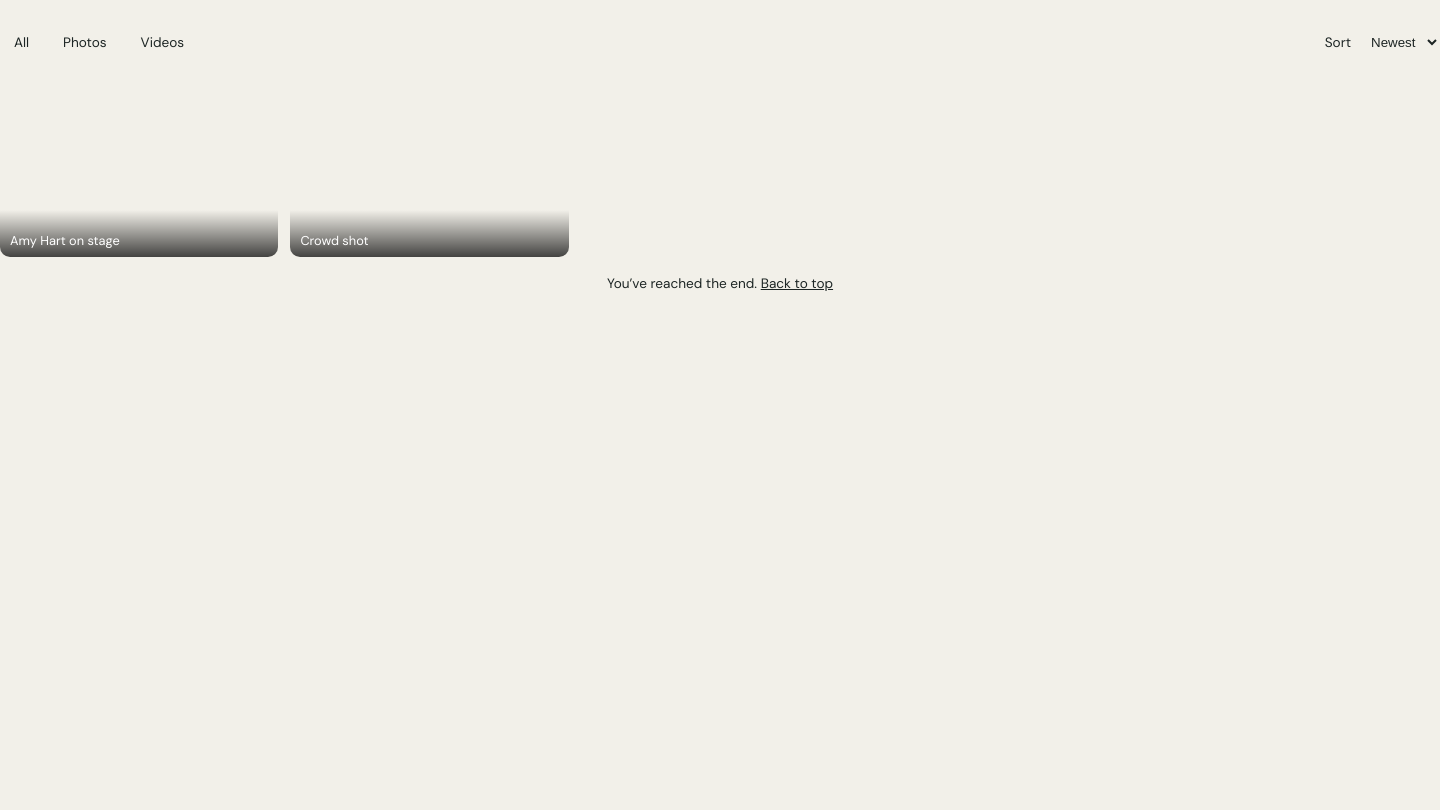
Scenario: Lightbox (via MediaGallery) › opens on tile click, navigates with keyboard and buttons, closes on Escape
Click the button with aria-label "Amy on stage photo": point(139, 164) [0,71,278,257]
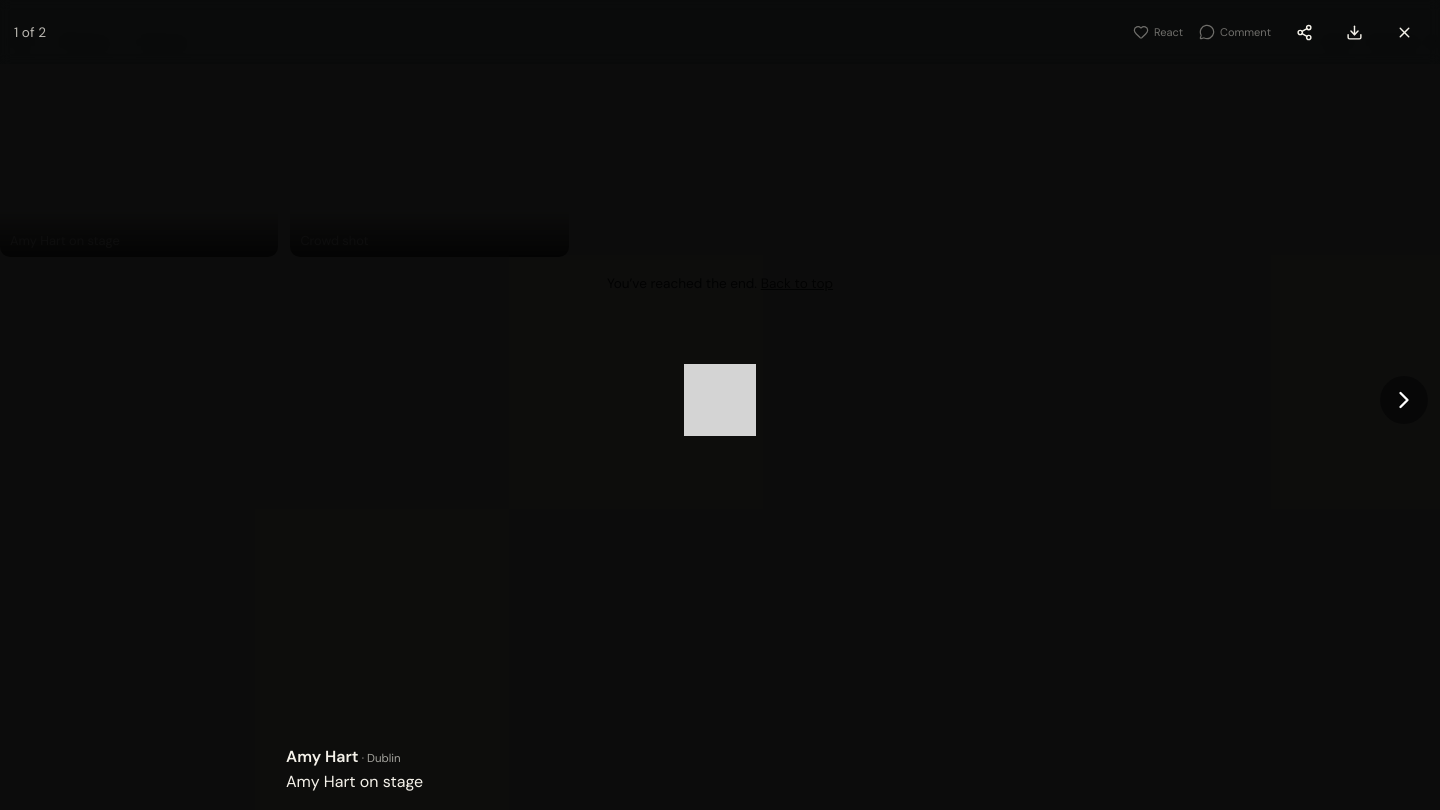
Now the dialog named "Amy on stage photo" is shown
Now the text "Amy Hart on stage" is shown, box [286,771,423,792]
Now the text "Amy Hart" is shown, box [286,746,359,767]
Click the button named "Next media": point(1404, 400) [1380,376,1428,424]
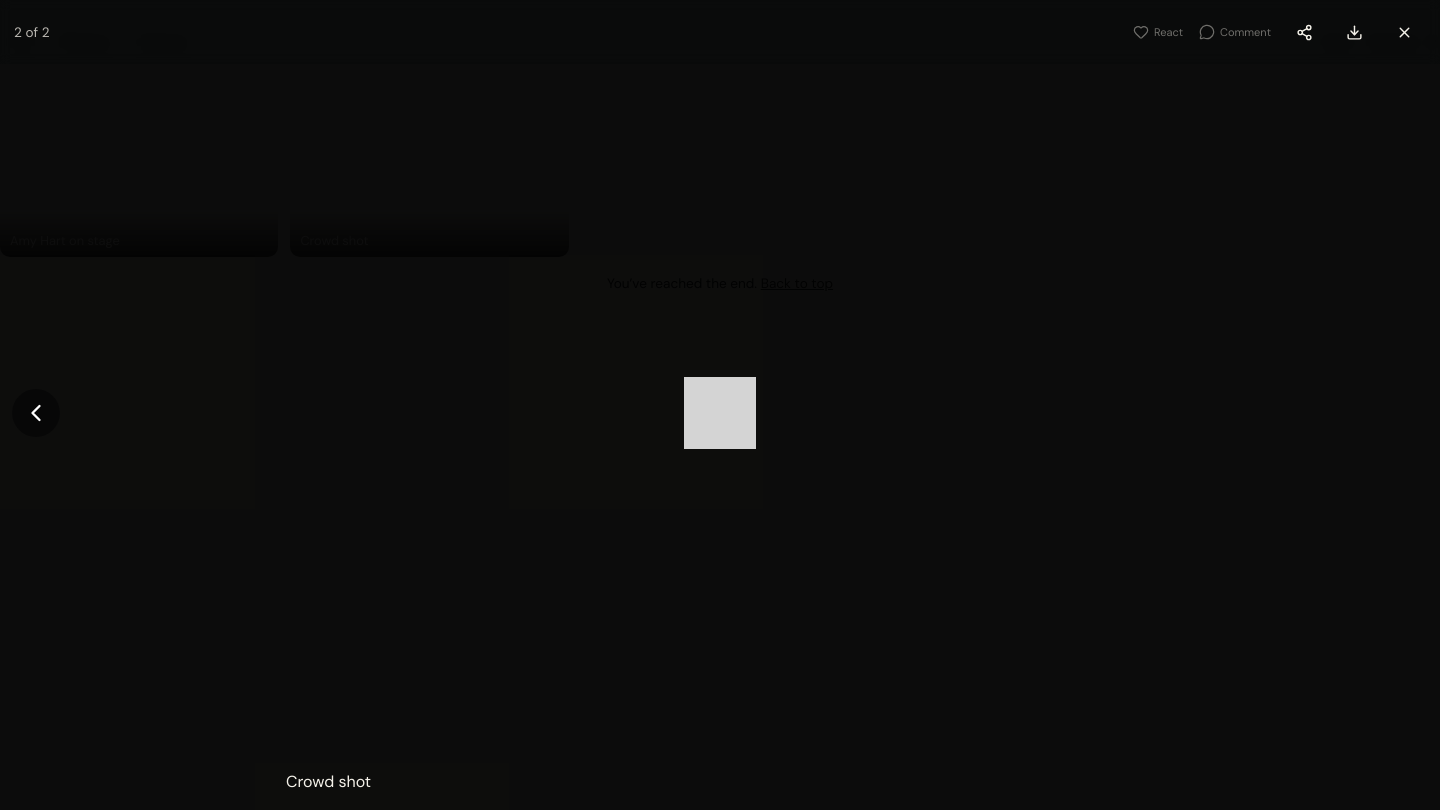
Now the text "Crowd shot" is shown, box [286,771,371,792]
Press Arrowleft
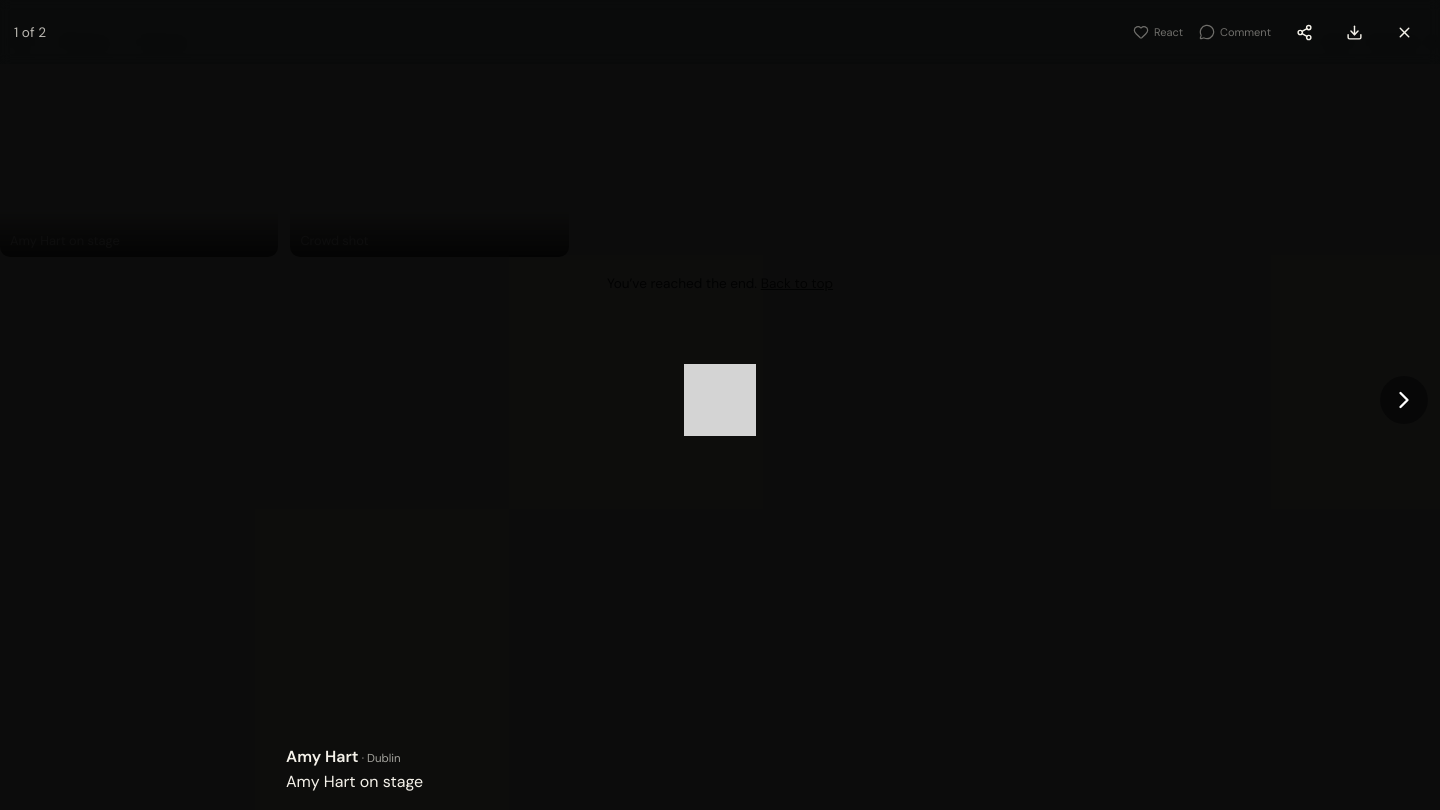
Now the text "Amy Hart on stage" is shown, box [286,771,423,792]
Press Escape
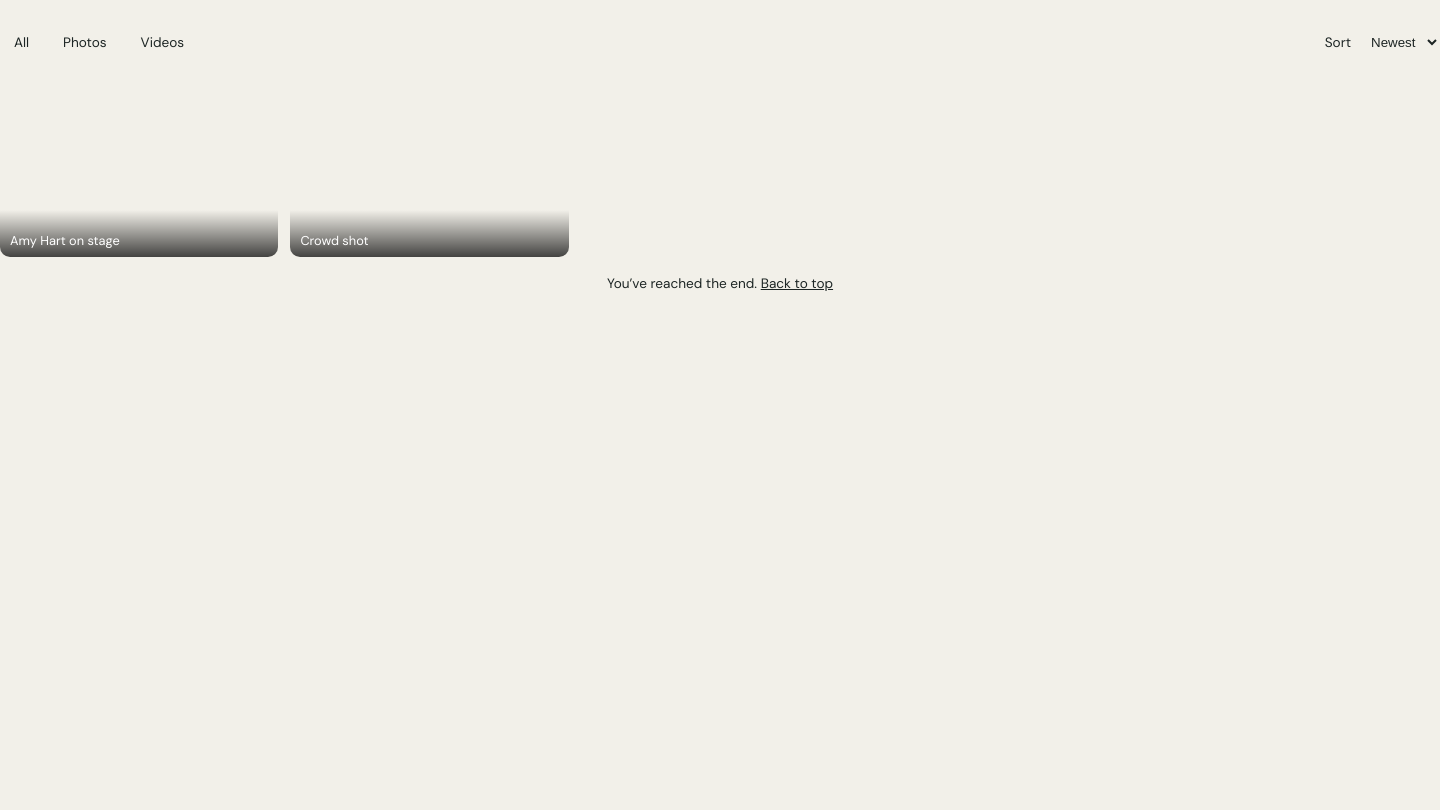
Now the dialog is gone
